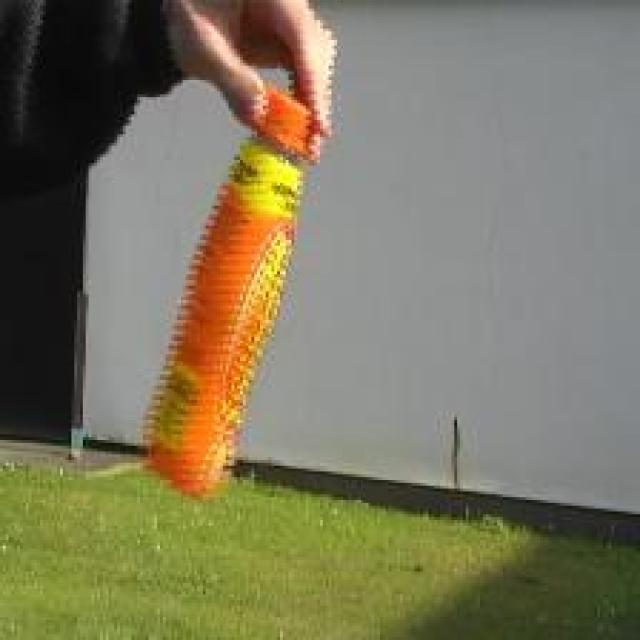other: (130, 75, 321, 502)
